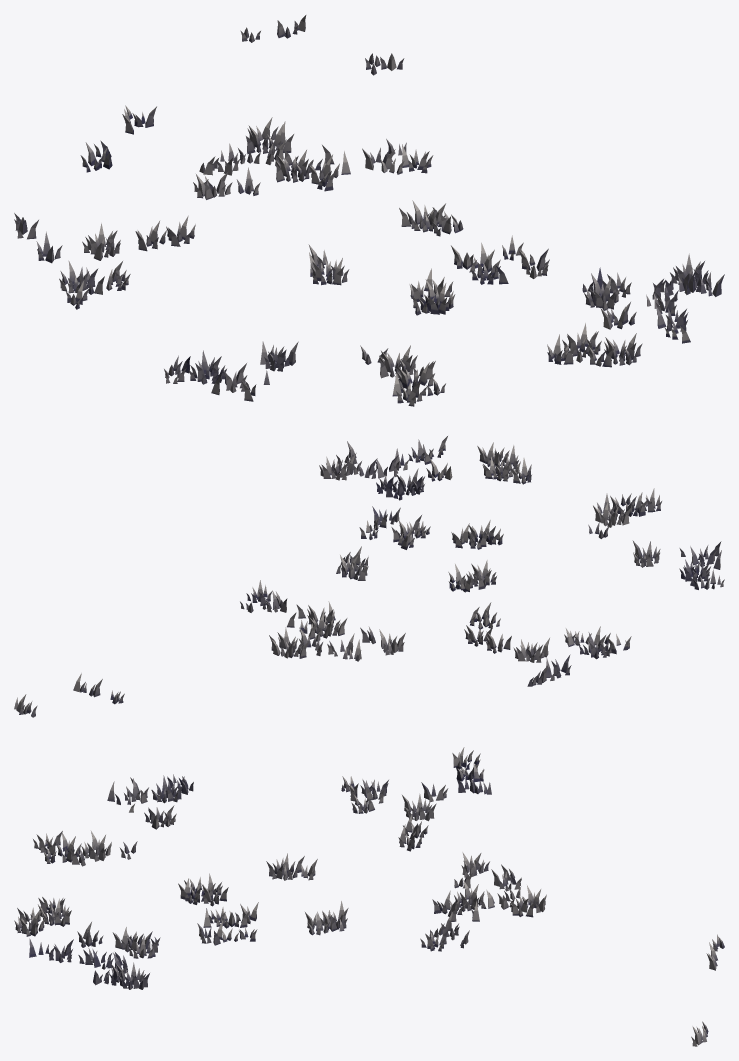
Rendered from Plant_01.FBX.
3 renders of one model, top to bottom at view 1: azimuth 30°, elevation 25°; view 2: azimuth 150°, elevation 25°; view 3: azimuth 270°, elevation 25°, orthographic. The views are drawn at different scales.
Parts seen in each view (by area): view 1: Plant_01; view 2: Plant_01; view 3: Plant_01.
Boxes of the visible parts, left/top/right/bottom form: Plant_01: left=14, top=15, right=724, bottom=406; Plant_01: left=14, top=436, right=724, bottom=717; Plant_01: left=14, top=747, right=724, bottom=1046.
Size of the model in its own units: 19.87 by 5.76 by 26.83.
